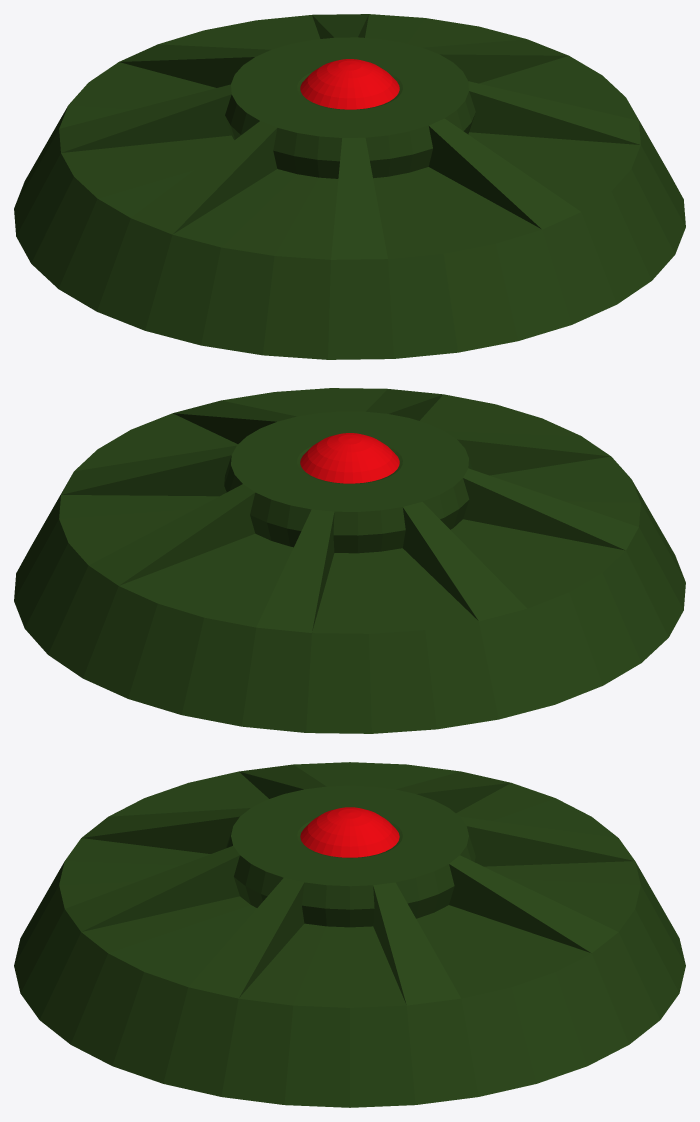
Rendered from mine.fbx.
The picture shows the model from 3 angles, top to bottom: view 1: azimuth 30°, elevation 25°; view 2: azimuth 150°, elevation 25°; view 3: azimuth 270°, elevation 25°; orthographic projection.
Parts seen in each view (by area): view 1: Circle; view 2: Circle; view 3: Circle.
Part boxes in pixels (box(x1,y1,x2,y2)): Circle: box(14, 14, 685, 359); Circle: box(14, 388, 685, 733); Circle: box(14, 762, 685, 1107).
Bounding box in the file's own units: 200 × 50.27 × 200.
